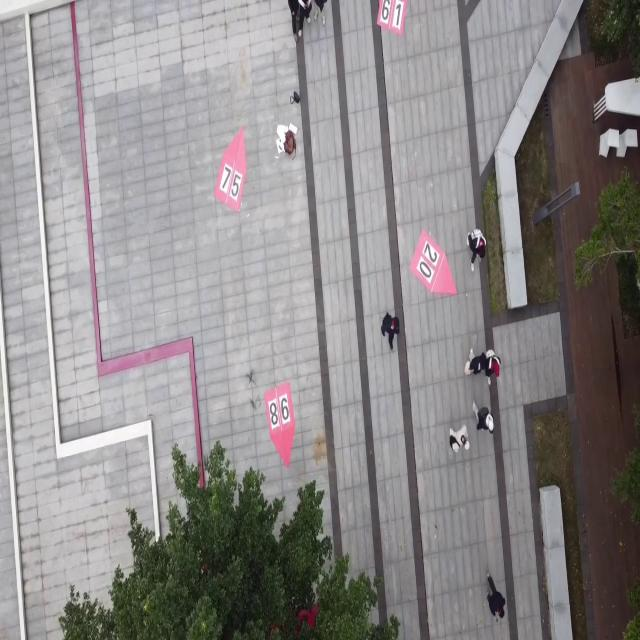-sign-: (410, 230, 456, 297), (215, 127, 247, 212), (265, 382, 295, 470), (378, 0, 407, 35)
